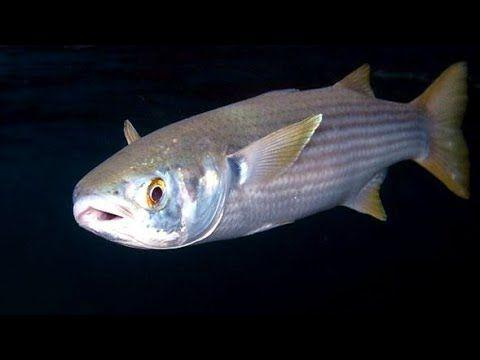Mullet: (73, 60, 474, 253)
